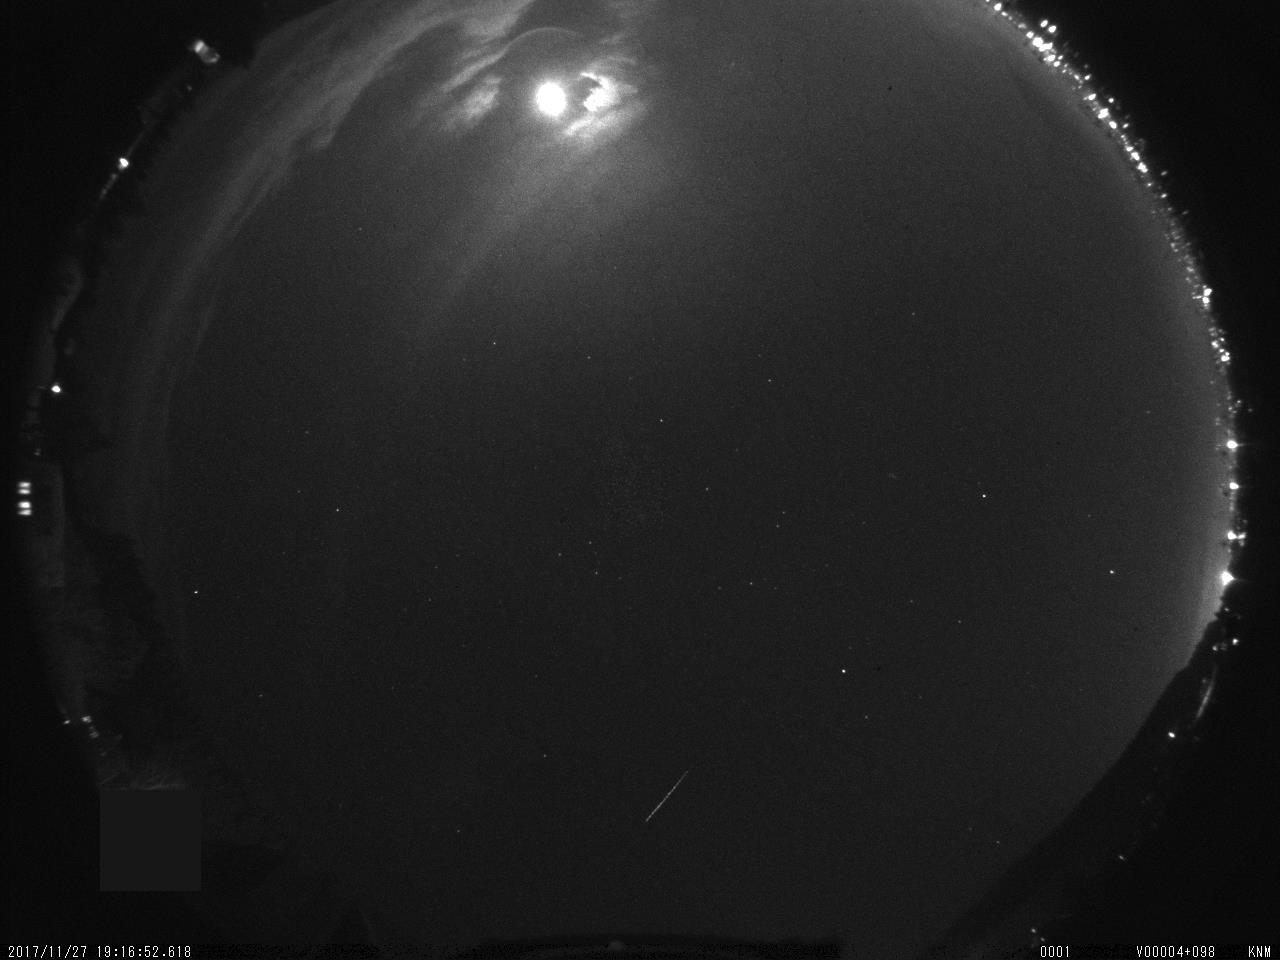meteor: (622, 732, 709, 836)
